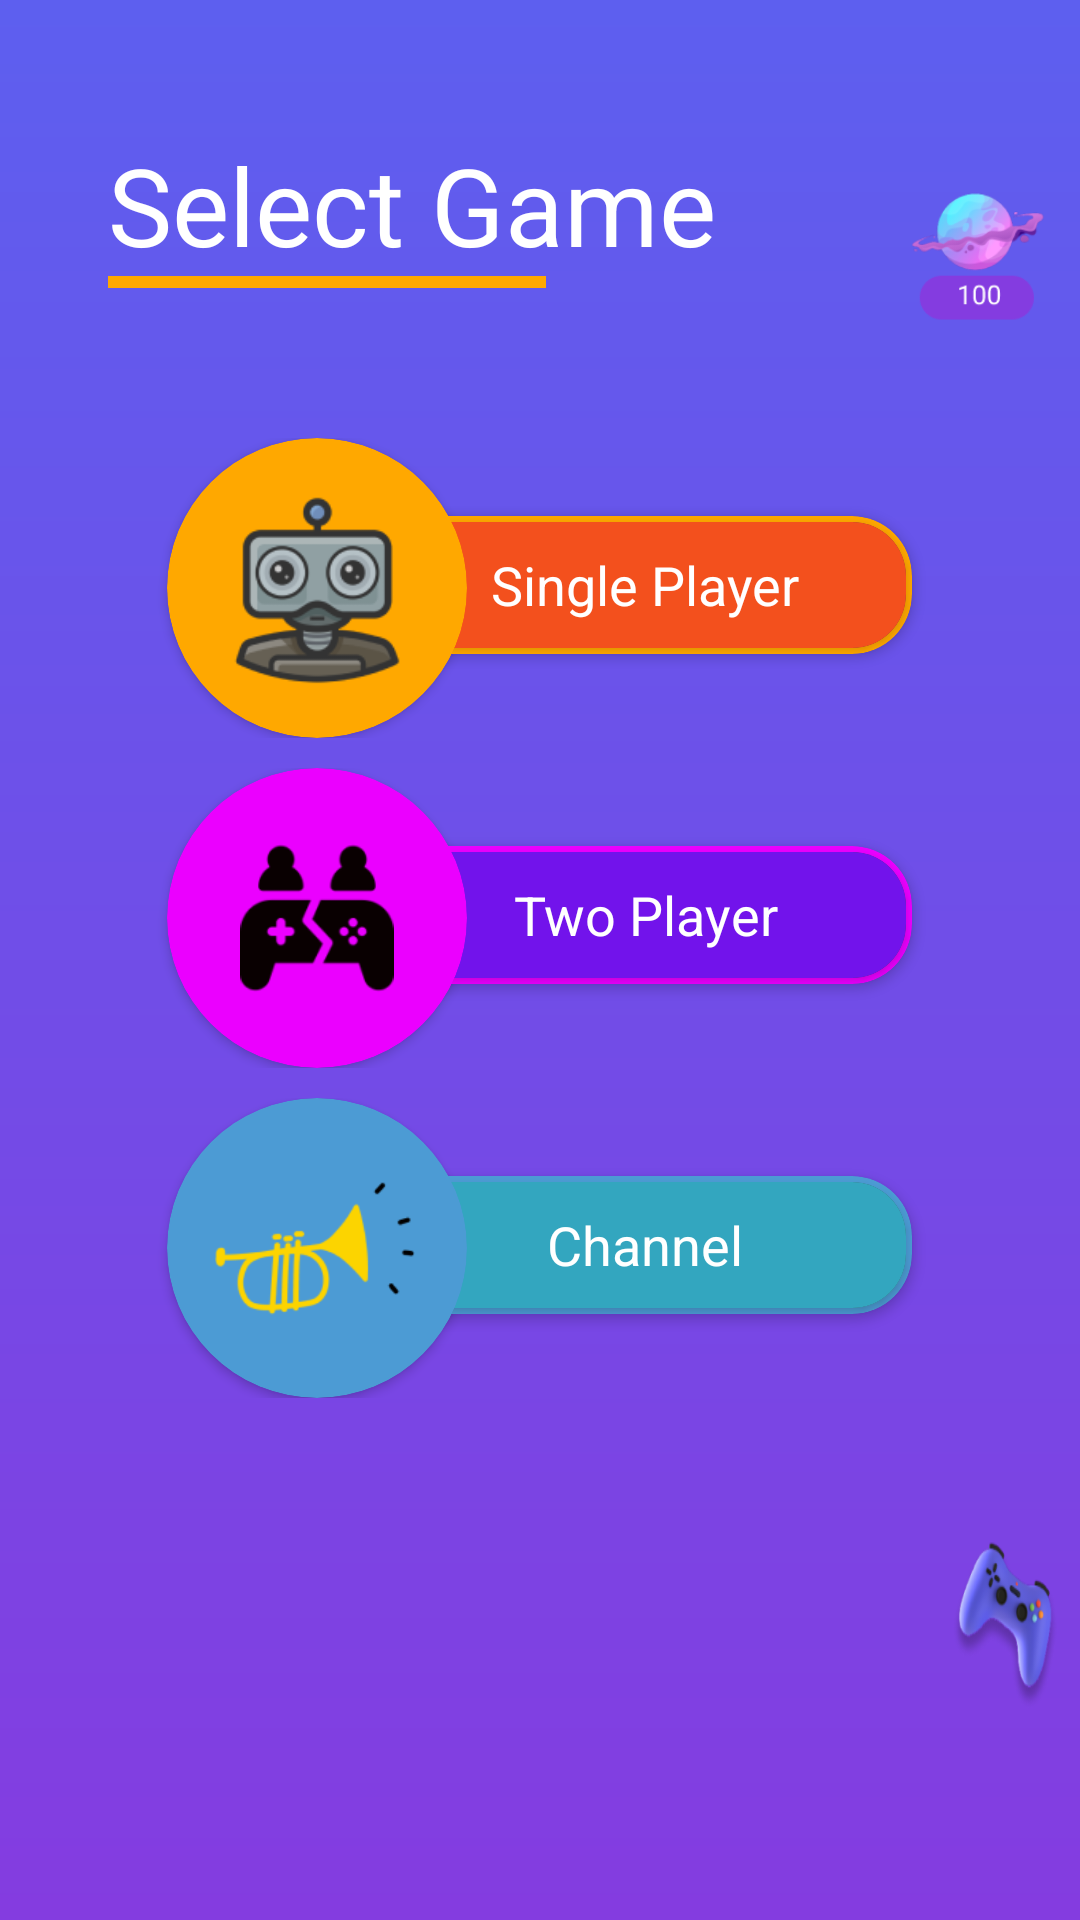

Icon click points for this 1080×1920 phone screenshot, format (x,y):
robot: (317,590)
